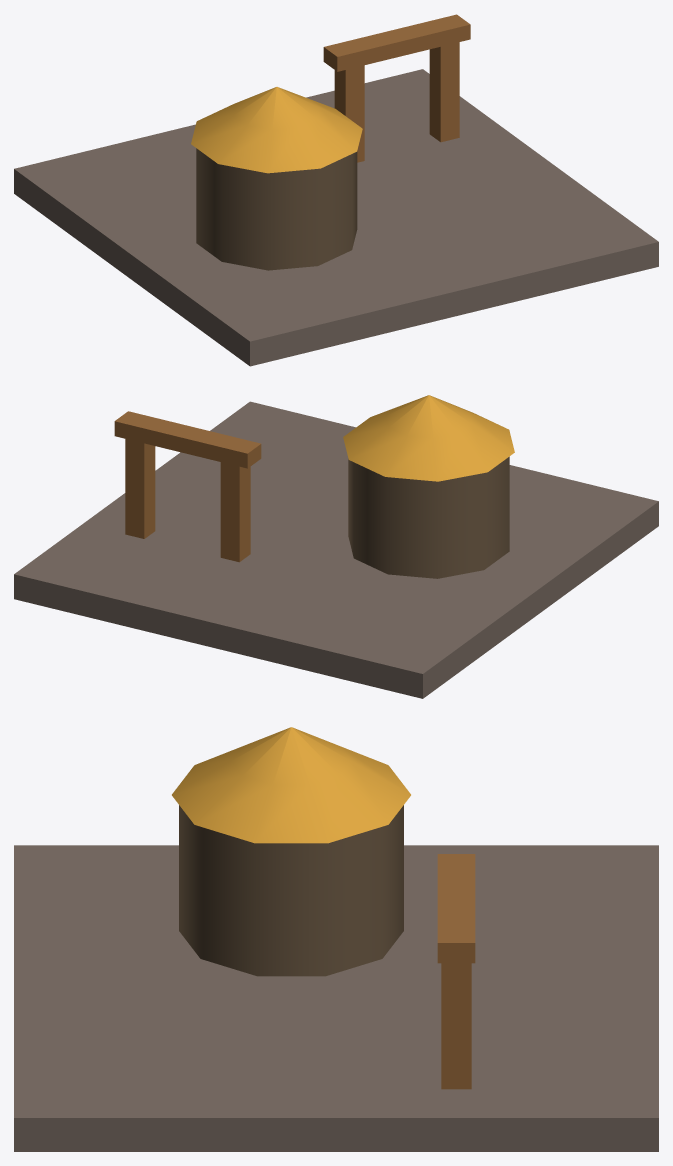
Rendered from dan_qi_qu.glb.
3 renders of one model, top to bottom at view 1: azimuth 30°, elevation 25°; view 2: azimuth 150°, elevation 25°; view 3: azimuth 270°, elevation 25°, orthographic. The views are drawn at different scales.
Parts seen in each view (by area): view 1: _MeshInstance3D_148, _MeshInstance3D_149, _MeshInstance3D_150, _MeshInstance3D_153, _MeshInstance3D_152, _MeshInstance3D_151; view 2: _MeshInstance3D_148, _MeshInstance3D_149, _MeshInstance3D_150, _MeshInstance3D_153, _MeshInstance3D_151, _MeshInstance3D_152; view 3: _MeshInstance3D_148, _MeshInstance3D_149, _MeshInstance3D_150, _MeshInstance3D_153, _MeshInstance3D_152.
Boxes of the visible parts, <box> form: _MeshInstance3D_148: <box>14,69,658,366</box>; _MeshInstance3D_149: <box>196,148,357,270</box>; _MeshInstance3D_150: <box>191,87,362,173</box>; _MeshInstance3D_153: <box>323,14,470,71</box>; _MeshInstance3D_152: <box>429,42,459,142</box>; _MeshInstance3D_151: <box>334,65,364,162</box>; _MeshInstance3D_148: <box>14,401,658,698</box>; _MeshInstance3D_149: <box>348,456,509,578</box>; _MeshInstance3D_150: <box>343,395,514,481</box>; _MeshInstance3D_153: <box>114,411,261,468</box>; _MeshInstance3D_151: <box>220,462,250,562</box>; _MeshInstance3D_152: <box>125,439,155,538</box>; _MeshInstance3D_148: <box>14,845,658,1151</box>; _MeshInstance3D_149: <box>179,805,403,976</box>; _MeshInstance3D_150: <box>172,727,410,843</box>; _MeshInstance3D_153: <box>437,854,475,963</box>; _MeshInstance3D_152: <box>441,963,471,1089</box>.
Bounding box in the file's own units: 0.86 × 0.35 × 0.86.
